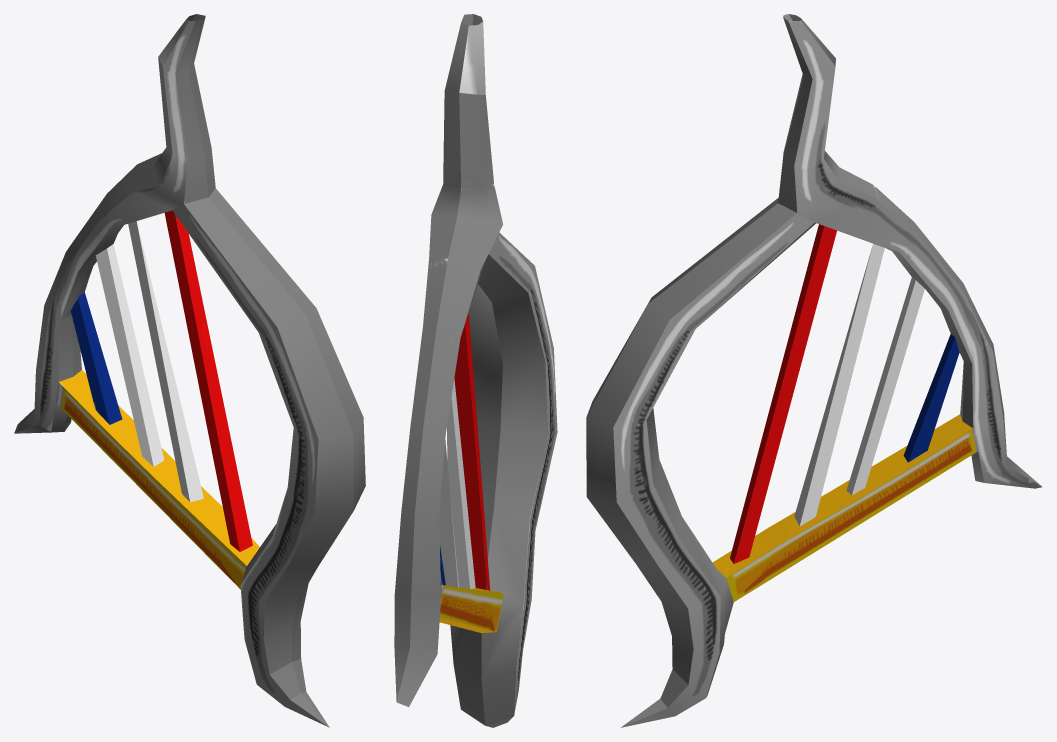
File: Arpa1_000018.obj
3 views of the same model, side by side, from view 1: azimuth 30°, elevation 25°; view 2: azimuth 150°, elevation 25°; view 3: azimuth 270°, elevation 25° (orthographic). The views are drawn at different scales.
Visible parts, largest first — view 1: a1_pCube7.001; view 2: a1_pCube7.001; view 3: a1_pCube7.001.
Part boxes in pixels (bbox=[...]): a1_pCube7.001: bbox=[14, 14, 365, 727]; a1_pCube7.001: bbox=[394, 14, 557, 727]; a1_pCube7.001: bbox=[586, 14, 1041, 727].
Size of the model in its own units: 2.45 by 10.42 by 6.29.
